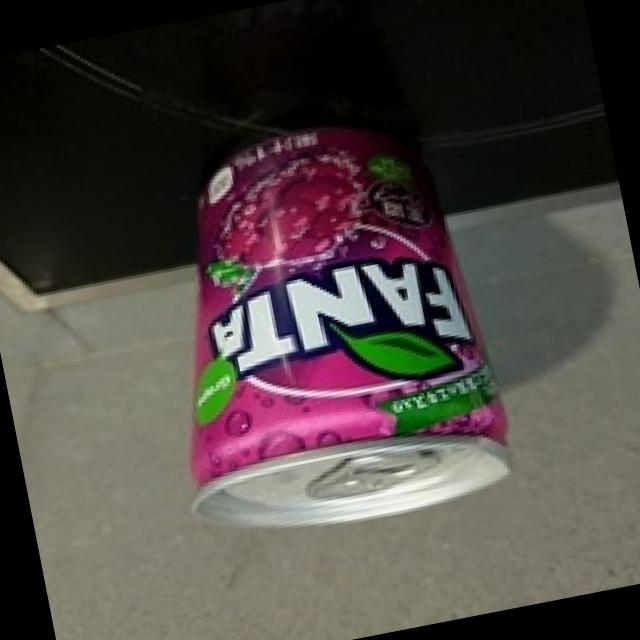can: (126, 104, 524, 556)
